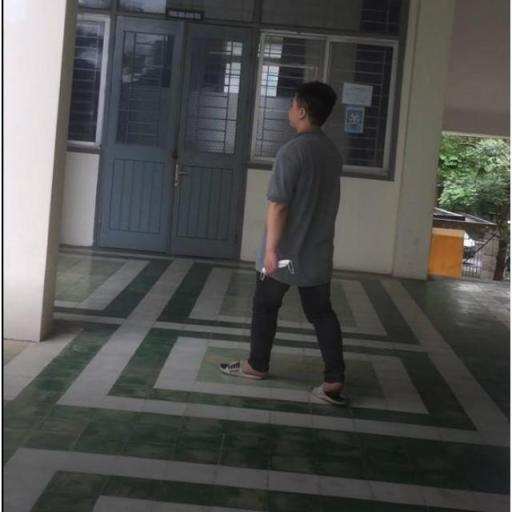Running: (212, 60, 366, 414)
